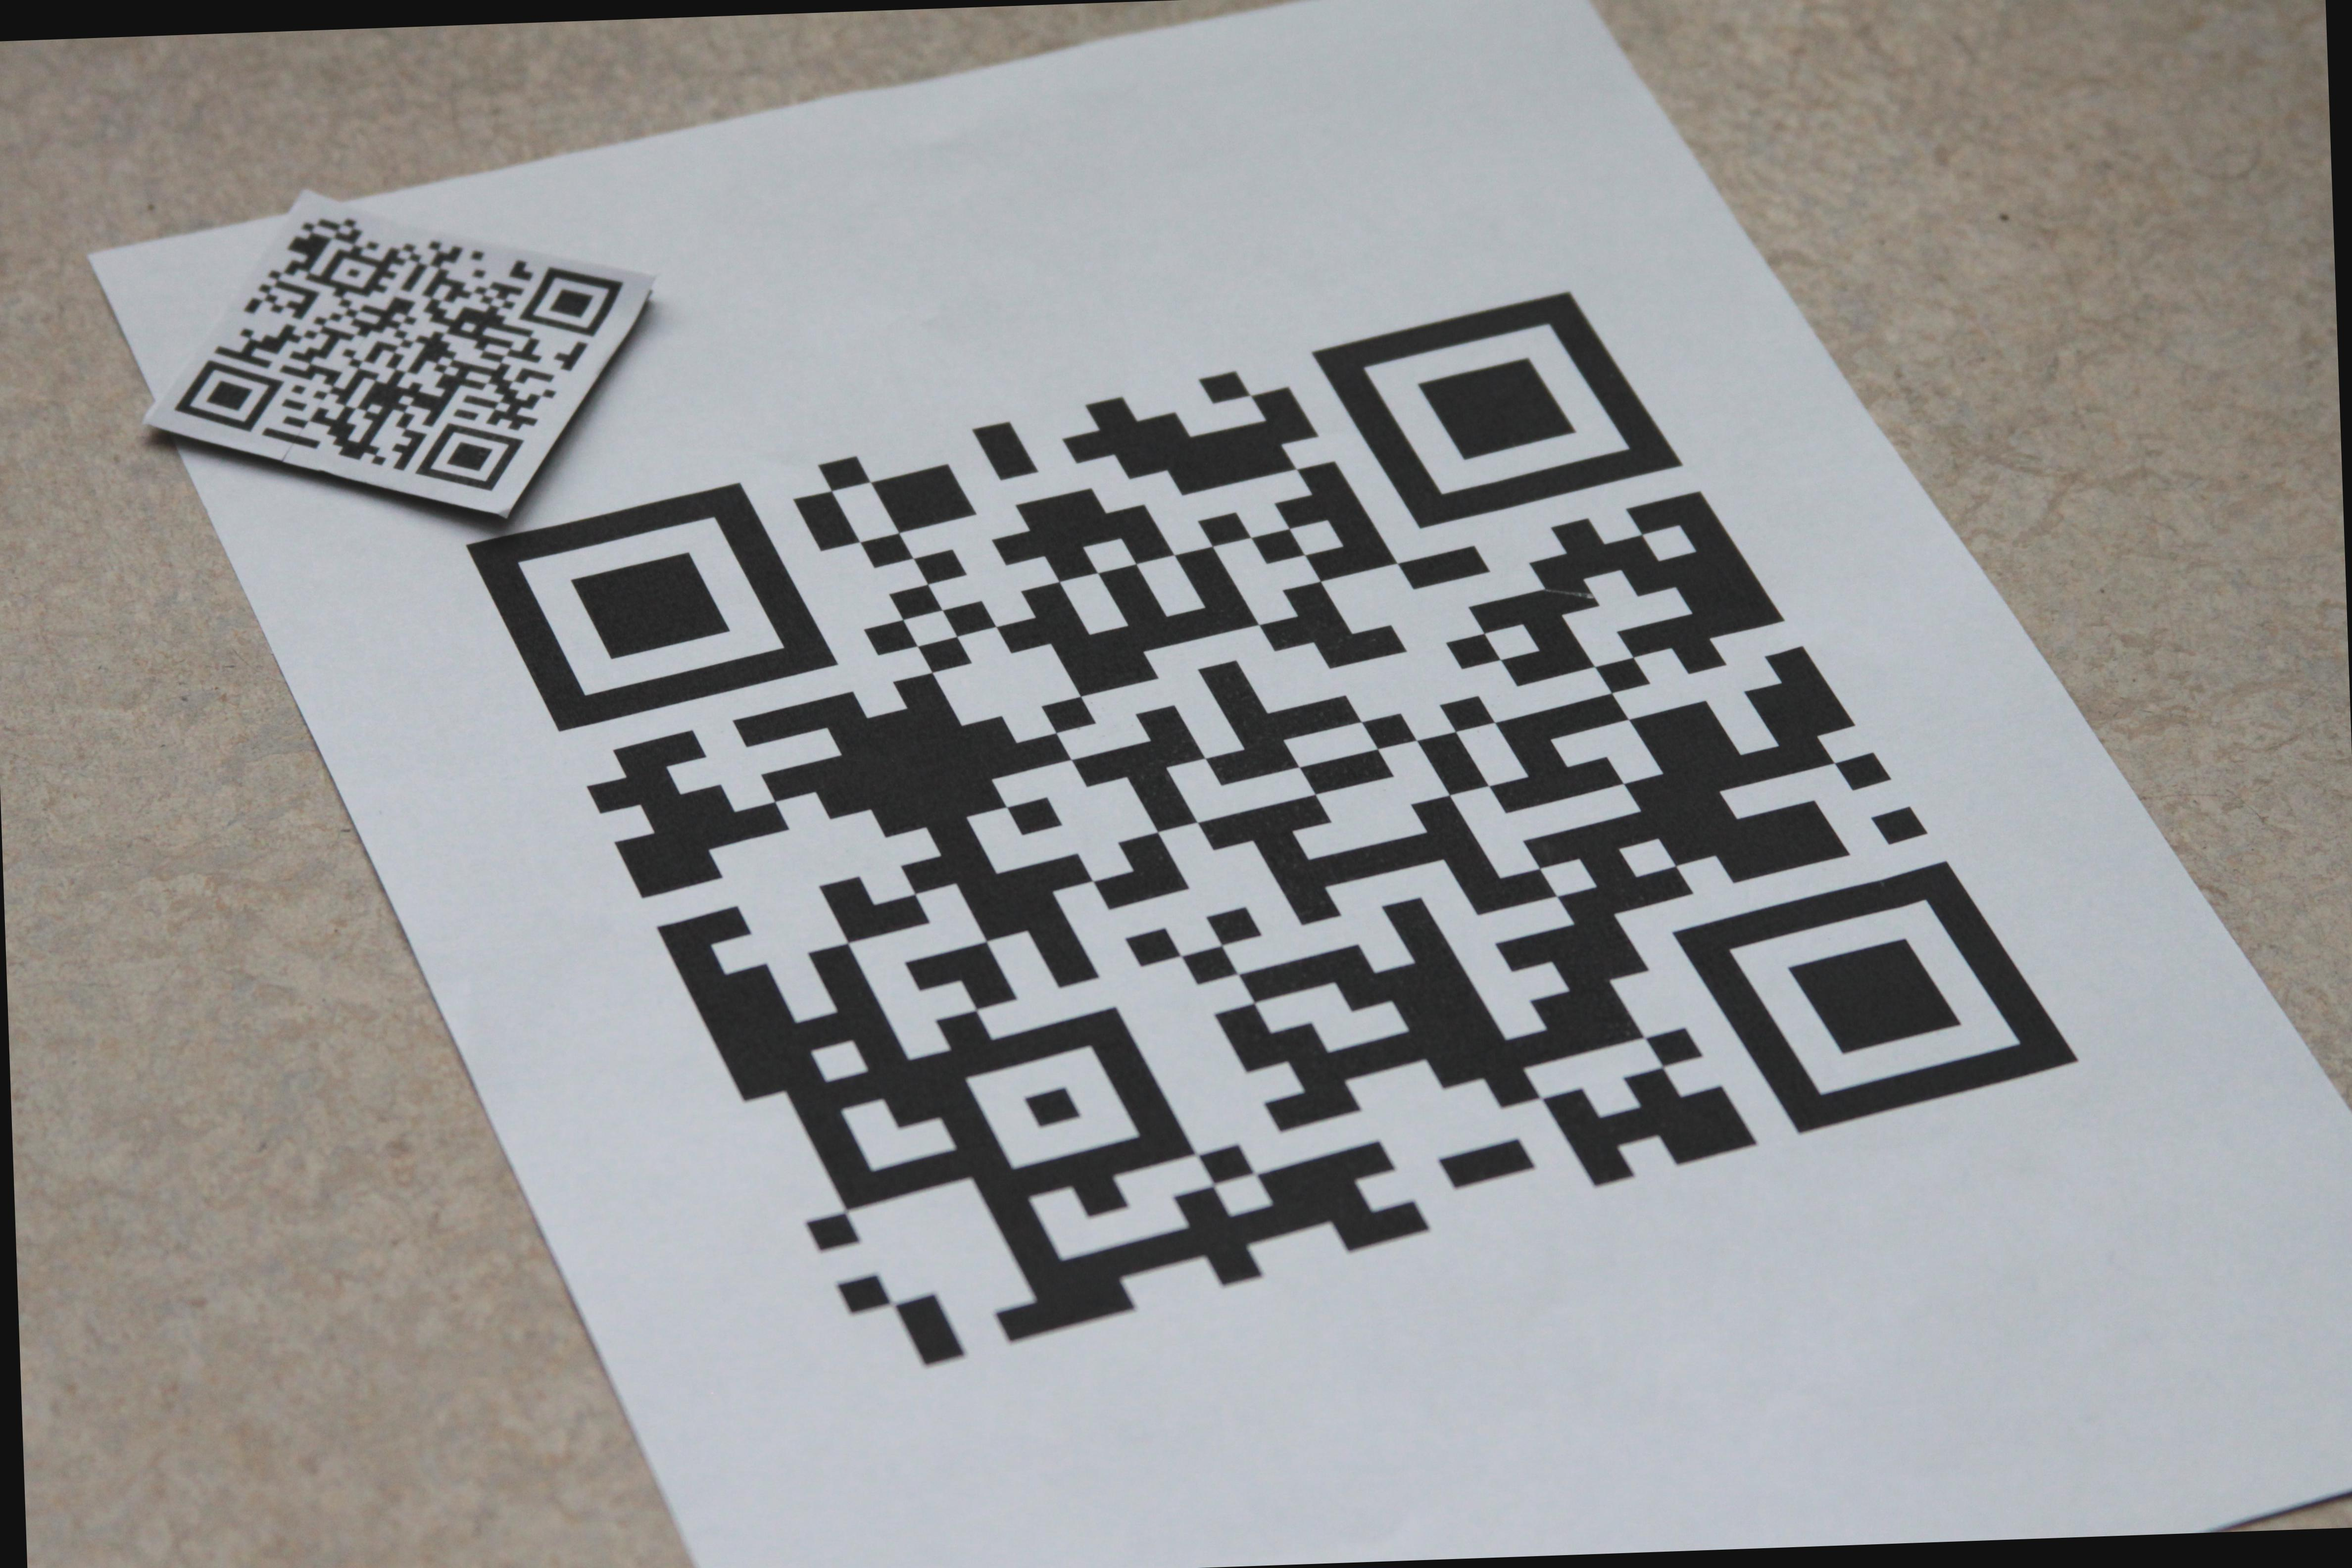QR: (467, 289, 2093, 1368), (144, 182, 654, 528)
